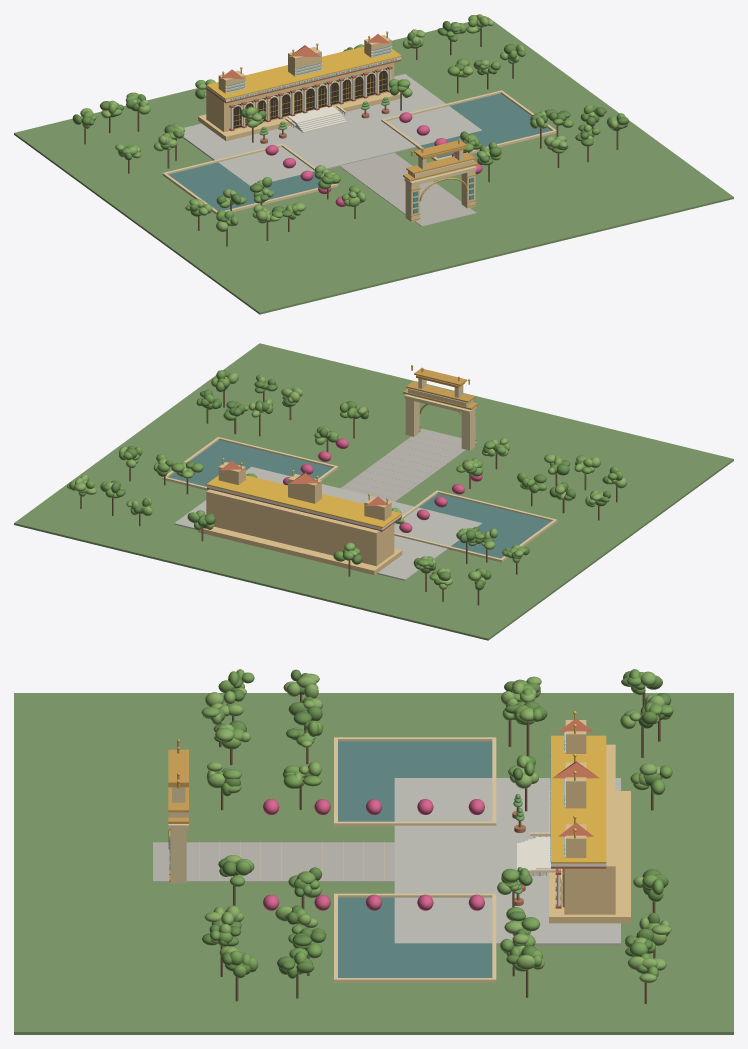
Rendered from khuon-vien-vinh-trang.glb.
3 renders of one model, top to bottom at view 1: azimuth 30°, elevation 25°; view 2: azimuth 150°, elevation 25°; view 3: azimuth 270°, elevation 25°, orthographic. The views are drawn at different scales.
Parts seen in each view (by area): view 1: Nền vườn, Sân, Đường chính, Hồ cảnh.001, Hồ cảnh, Viền mái trên, Khối kiến trúc, Nền chính điện, Tháp trang trí.002, Diềm gốm, Tầng mái cổng.003; view 2: Nền vườn, Khối kiến trúc, Sân, Đường chính, Hồ cảnh, Hồ cảnh.001, Viền mái trên, Nền chính điện, Tháp trang trí.002, Diềm gốm, Trụ cổng, Trụ cổng.001 (+1 smaller); view 3: Nền vườn, Sân, Đường chính, Hồ cảnh, Hồ cảnh.001, Viền mái trên, Khối kiến trúc, Nền chính điện, Trụ cổng.001, Bờ hồ.003, Bờ hồ.007, Bờ hồ.002 (+3 smaller).
Part boxes in pixels (x1,y1,x2,y2): Nền vườn: (14, 17, 733, 314); Sân: (182, 74, 482, 185); Đường chính: (339, 152, 476, 226); Hồ cảnh.001: (420, 93, 551, 158); Hồ cảnh: (168, 162, 332, 210); Viền mái trên: (206, 46, 401, 99); Khối kiến trúc: (206, 62, 394, 131); Nền chính điện: (198, 92, 402, 141); Tháp trang trí.002: (288, 47, 321, 76); Diềm gốm: (207, 57, 401, 101); Tầng mái cổng.003: (406, 153, 475, 174); Nền vườn: (14, 343, 733, 640); Khối kiến trúc: (206, 489, 394, 566); Sân: (174, 466, 482, 580); Đường chính: (340, 428, 476, 501); Hồ cảnh: (419, 493, 551, 558); Hồ cảnh.001: (168, 440, 332, 486); Viền mái trên: (206, 475, 401, 528); Nền chính điện: (198, 526, 402, 575); Tháp trang trí.002: (288, 474, 321, 503); Diềm gốm: (207, 485, 401, 530); Trụ cổng: (461, 410, 475, 450); Trụ cổng.001: (405, 399, 419, 436); Nền vườn: (14, 693, 733, 1034); Sân: (394, 778, 620, 945); Đường chính: (153, 842, 394, 881); Hồ cảnh: (338, 741, 492, 821); Hồ cảnh.001: (338, 897, 492, 977); Viền mái trên: (551, 735, 606, 863); Khối kiến trúc: (564, 744, 615, 914); Nền chính điện: (549, 791, 630, 923); Trụ cổng.001: (170, 830, 186, 883); Bờ hồ.003: (338, 821, 492, 826); Bờ hồ.007: (338, 978, 492, 982); Bờ hồ.002: (338, 737, 492, 741).
Bounding box in the file's own units: 78 × 11.31 × 70.
